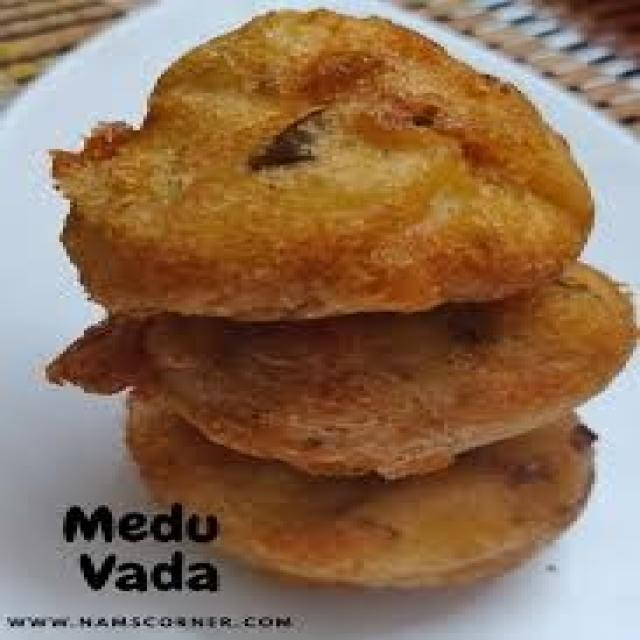medu vadai: (31, 4, 640, 572), (52, 9, 591, 319), (56, 265, 630, 477), (126, 400, 591, 586)
